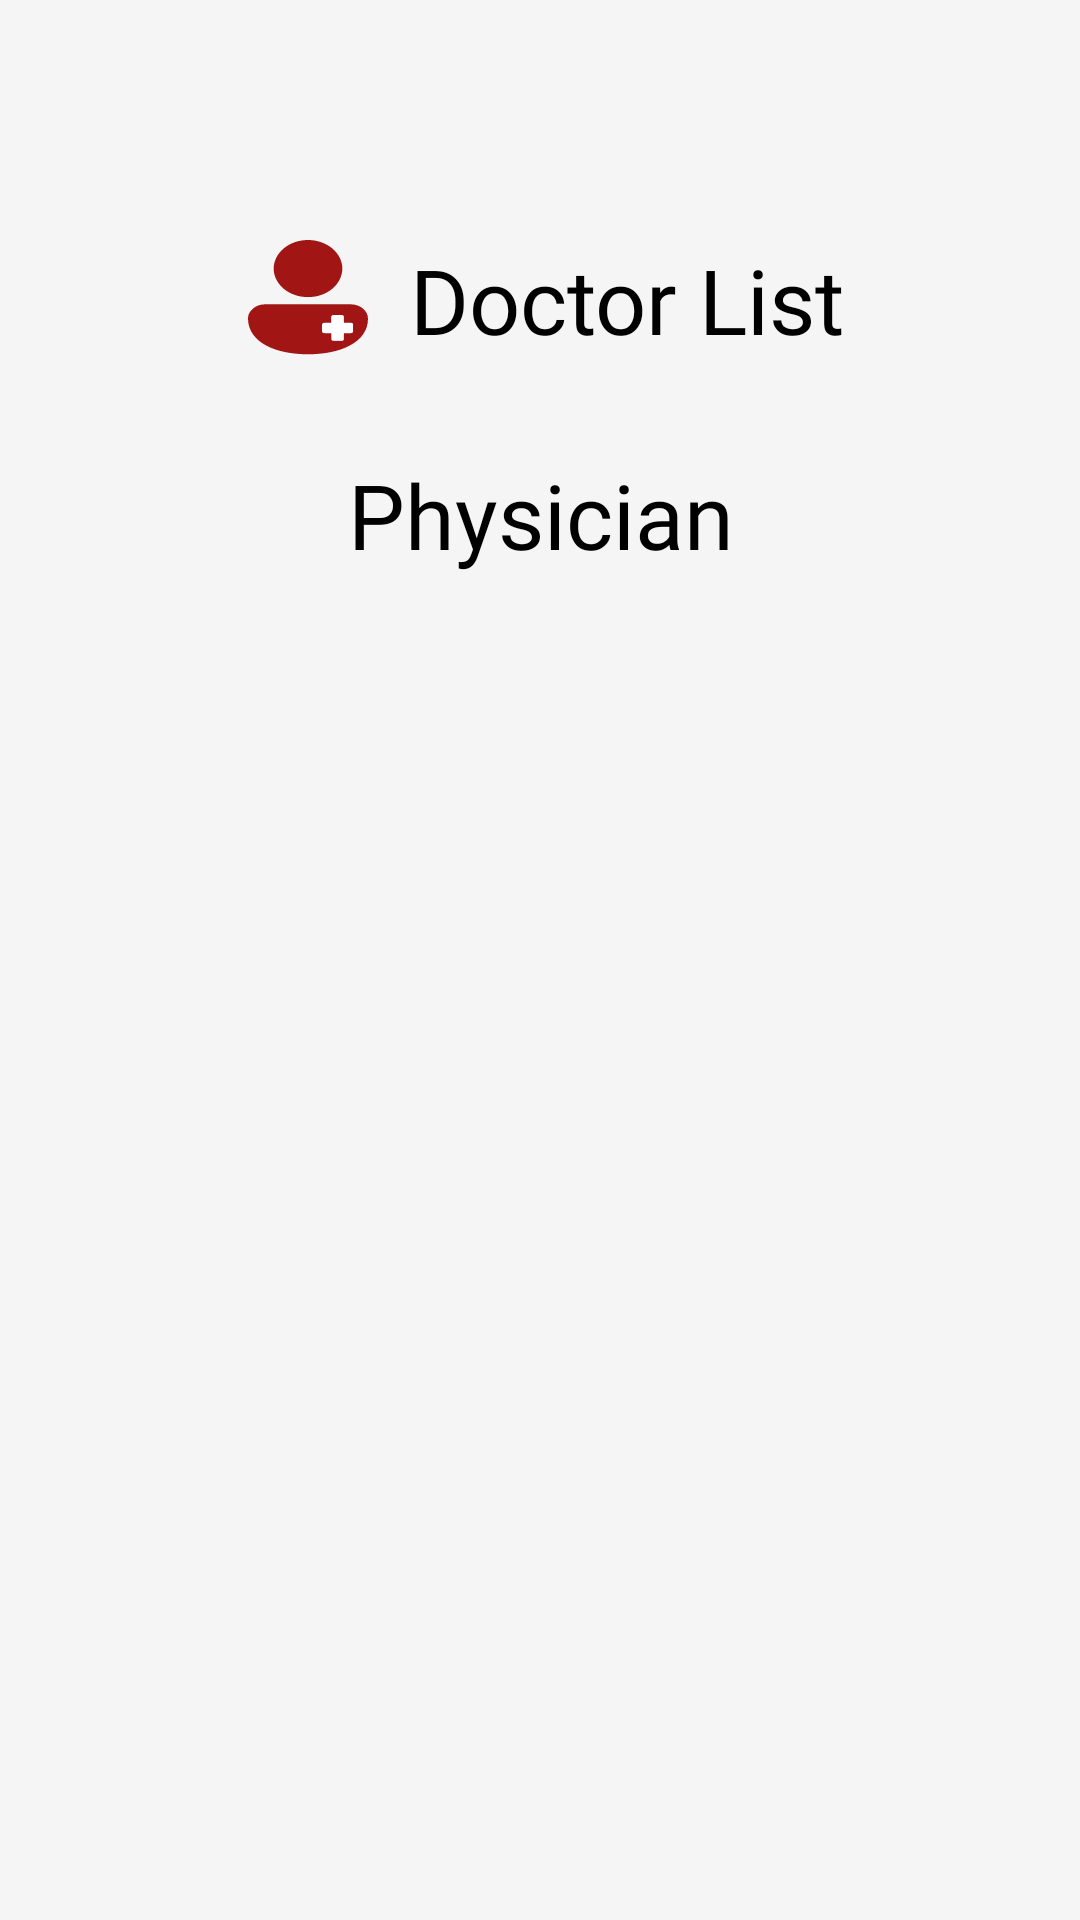

Icon click points for this 1080 × 1920 phone screenshot, format [x,y]:
find doctor: [308,297]
